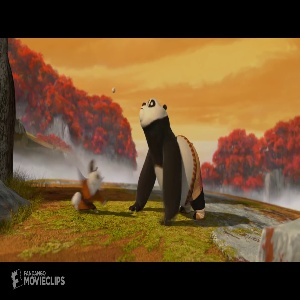po: (130, 94, 208, 225)
shifu: (67, 158, 107, 214)
